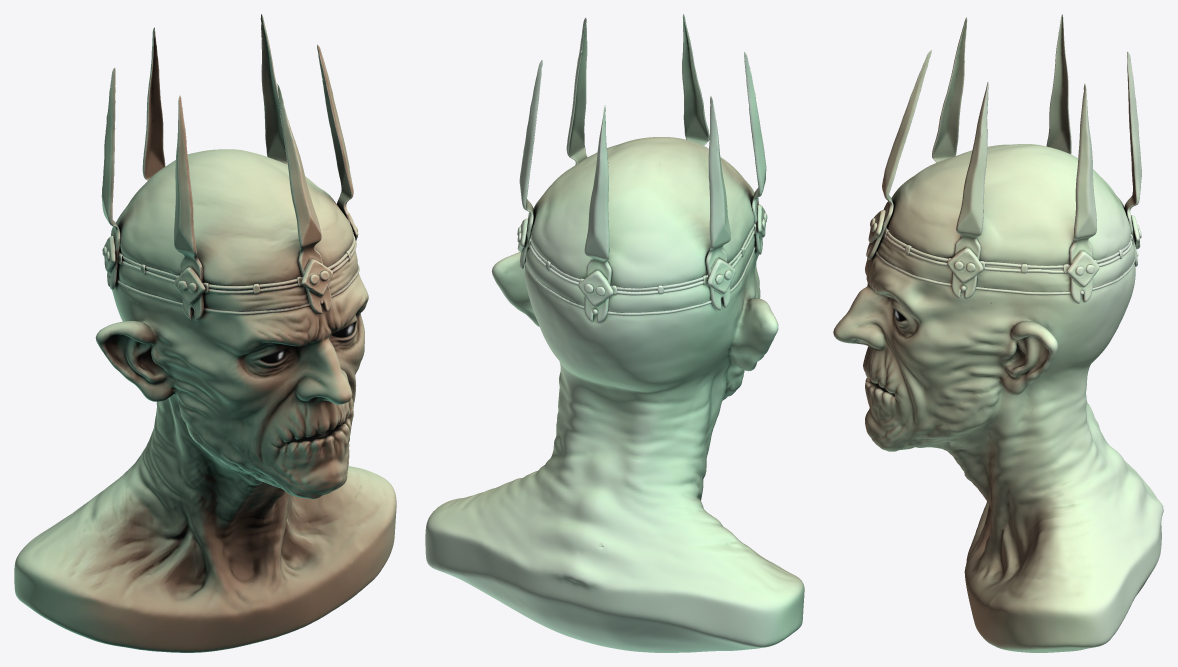
The model's file is crowned_demon_2k_comp.116e01b2.glb.
3 views of the same model, side by side, from view 1: azimuth 30°, elevation 25°; view 2: azimuth 150°, elevation 25°; view 3: azimuth 270°, elevation 25° (orthographic). The views are drawn at different scales.
Parts seen in each view (by area): view 1: skin, crown; view 2: skin, crown; view 3: skin, crown.
Boxes of the visible parts, x1,y1,x2,y2 form: skin: (14, 149, 396, 652); crown: (101, 14, 359, 320); skin: (425, 137, 804, 652); crown: (517, 14, 767, 322); skin: (833, 144, 1163, 652); crown: (866, 14, 1141, 303).
Bounding box in the file's own units: 0.4589 × 0.7101 × 0.3725.
Materials: 3 (3 with a texture image).
